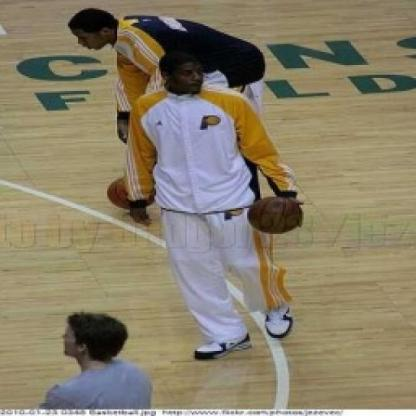basketball: (242, 191, 309, 240), (104, 171, 156, 214)
